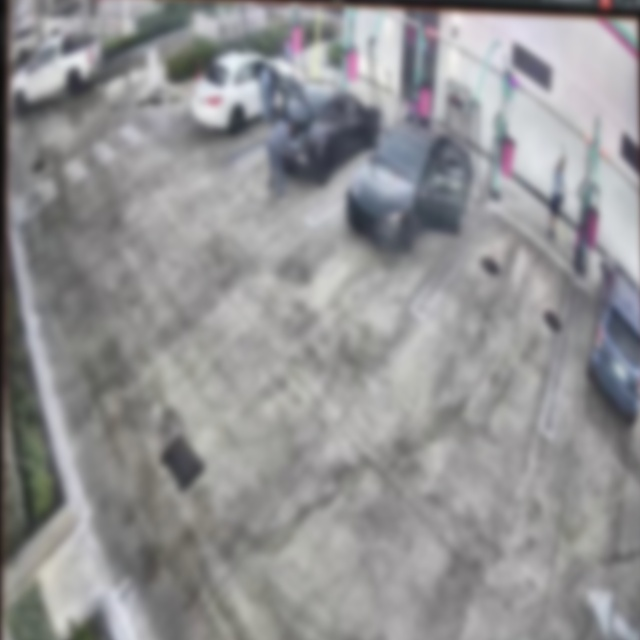Car: (348, 116, 475, 255), (272, 71, 379, 178)
